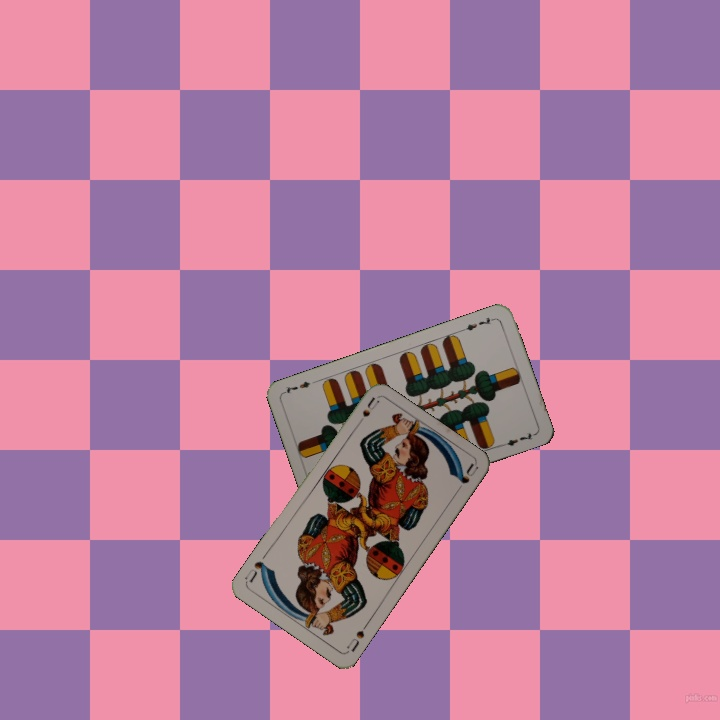E7: (458, 313, 498, 333)
SU: (351, 393, 382, 431), (342, 619, 371, 654)
